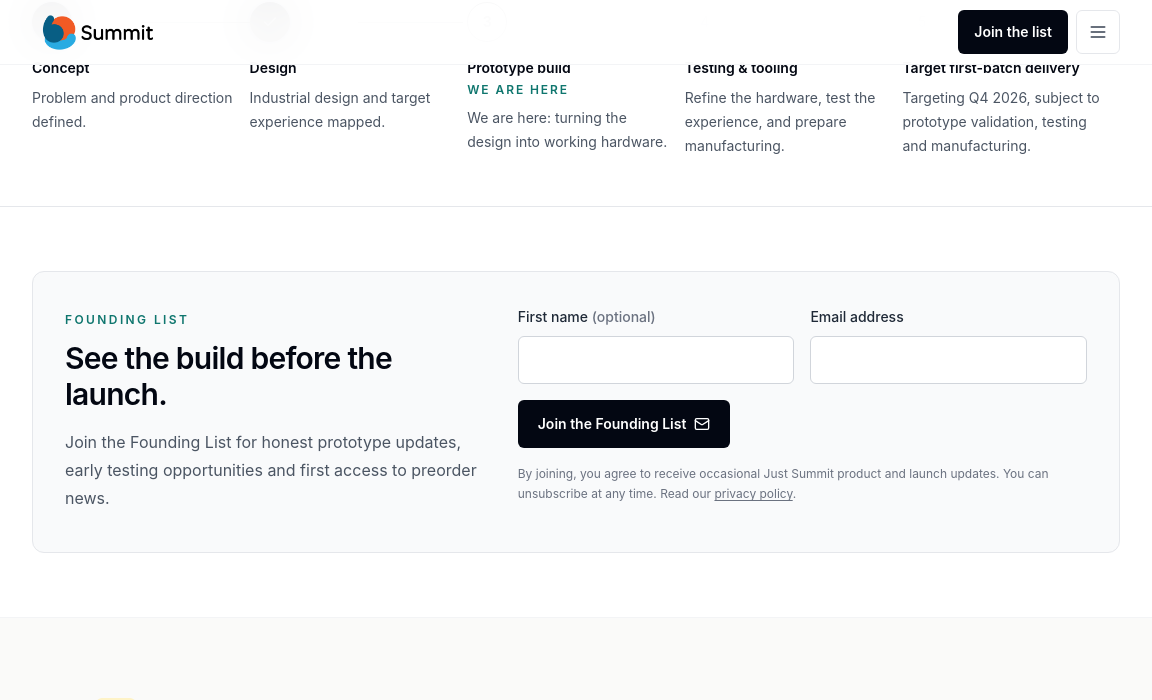
Test: HomePage › submits Founding List leads with placement attribution
This screenshot has width=1152, height=700.
(page scrolled)
Type "Tom" into the field labelled "First name (optional)" at (656,360), box [518, 336, 794, 384]
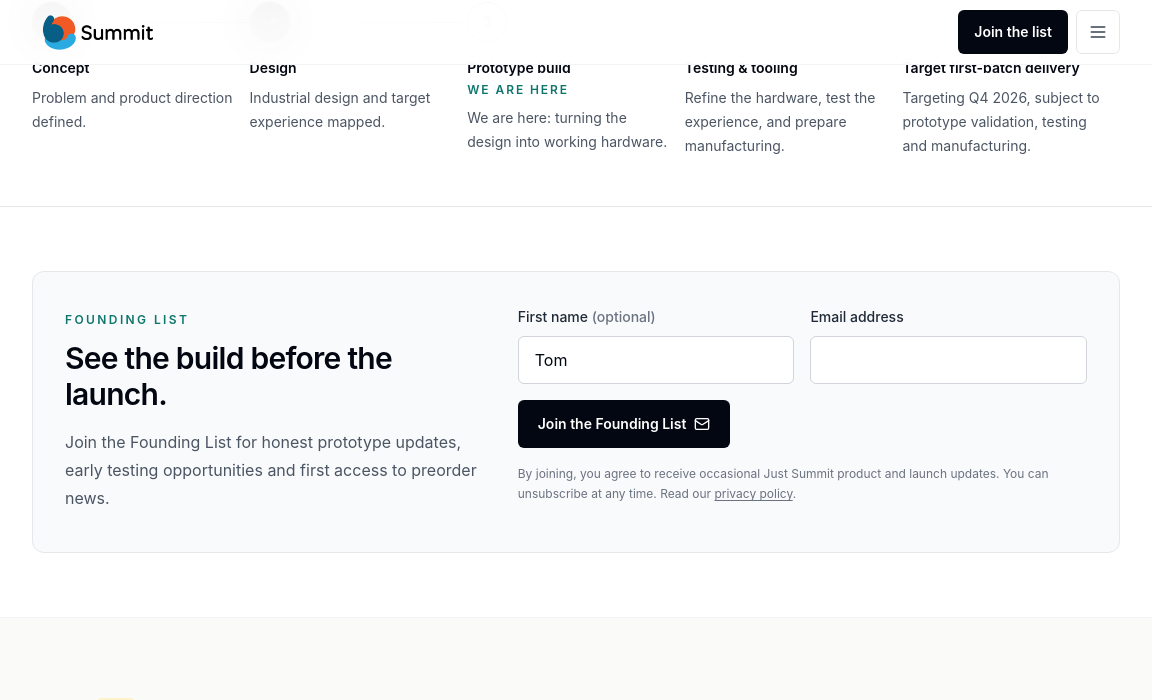
Type "tom@example.com" into the field labelled "Email address" at (949,360), box [810, 336, 1087, 384]
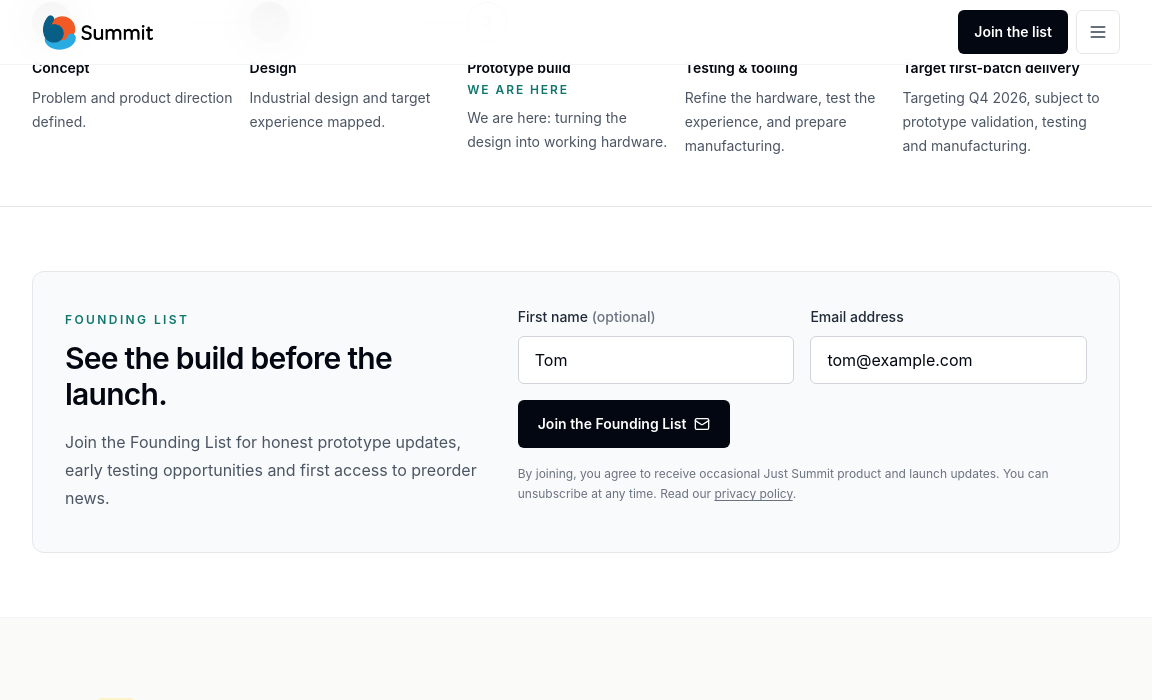
Click the button with test id "founding-list-submit-home_roadmap" at (624,424), box [518, 400, 730, 448]
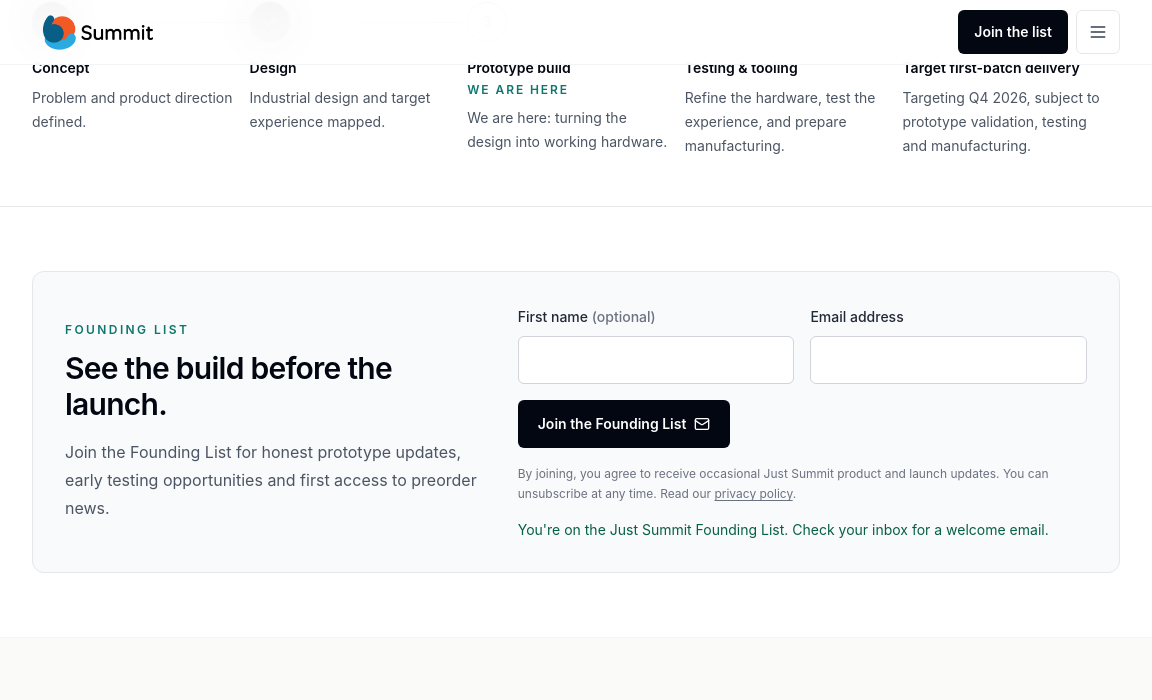
Now the text "You're on the Just Summit Founding List. Check your inbox for a welcome email." is shown, box [518, 520, 1087, 540]
